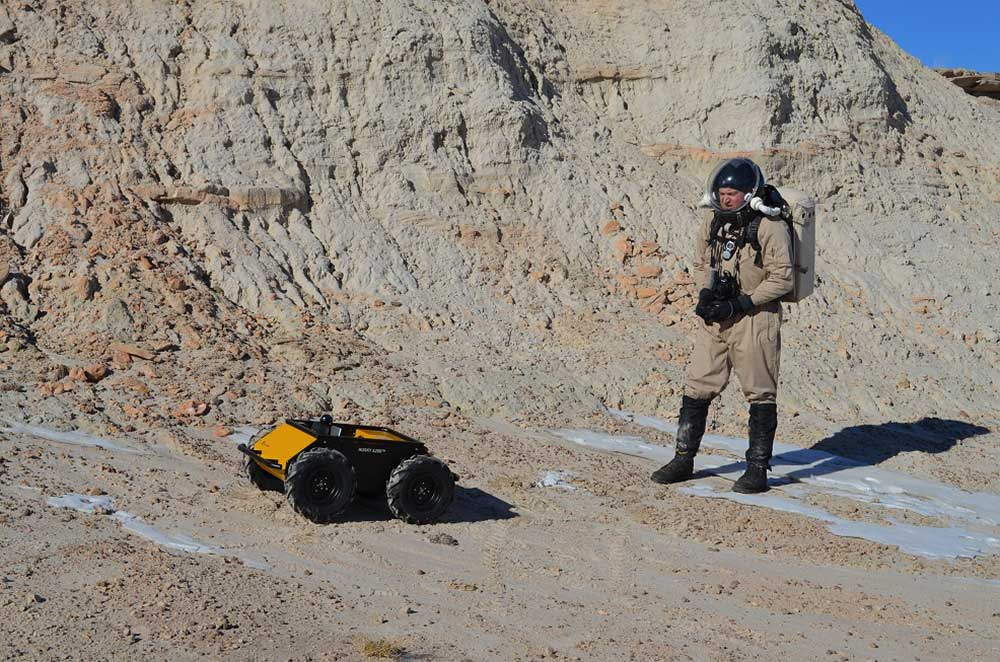husky: (237, 412, 460, 525)
